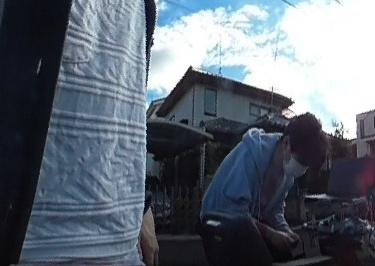person: (187, 110, 328, 252)
